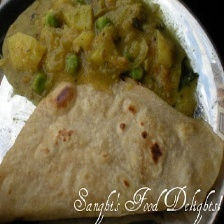sabzi: (0, 0, 202, 82)
